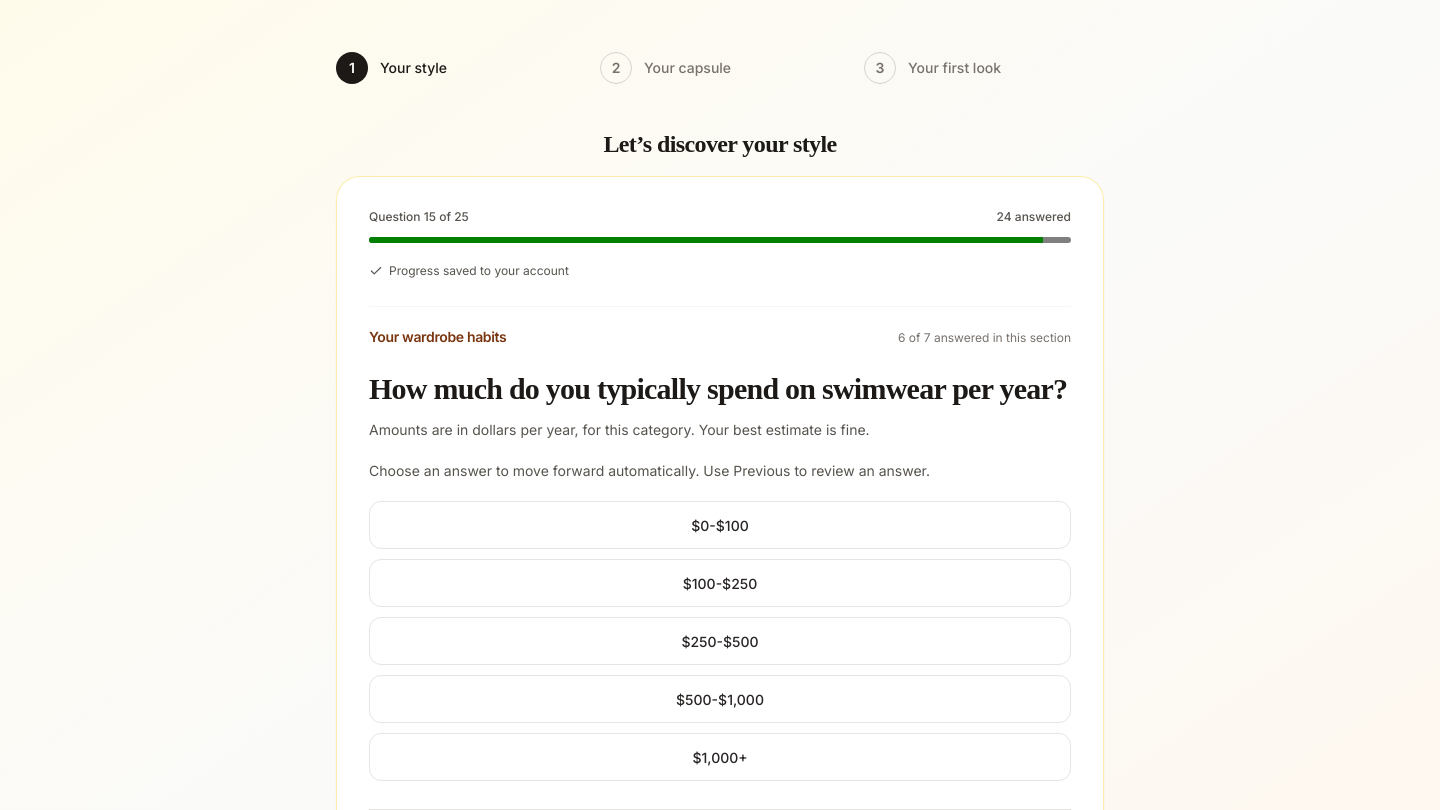
continues to completion when later guest questions are already answered
Expected: the heading "Your wardrobe habits" is shown, [369,327,506,347]
Expected: the text "Amounts are in dollars per year" is shown, [369,421,870,438]
Click the button "$0-$100". click: (720,525)
box: [369,501,1071,549]
Wait 400 ms
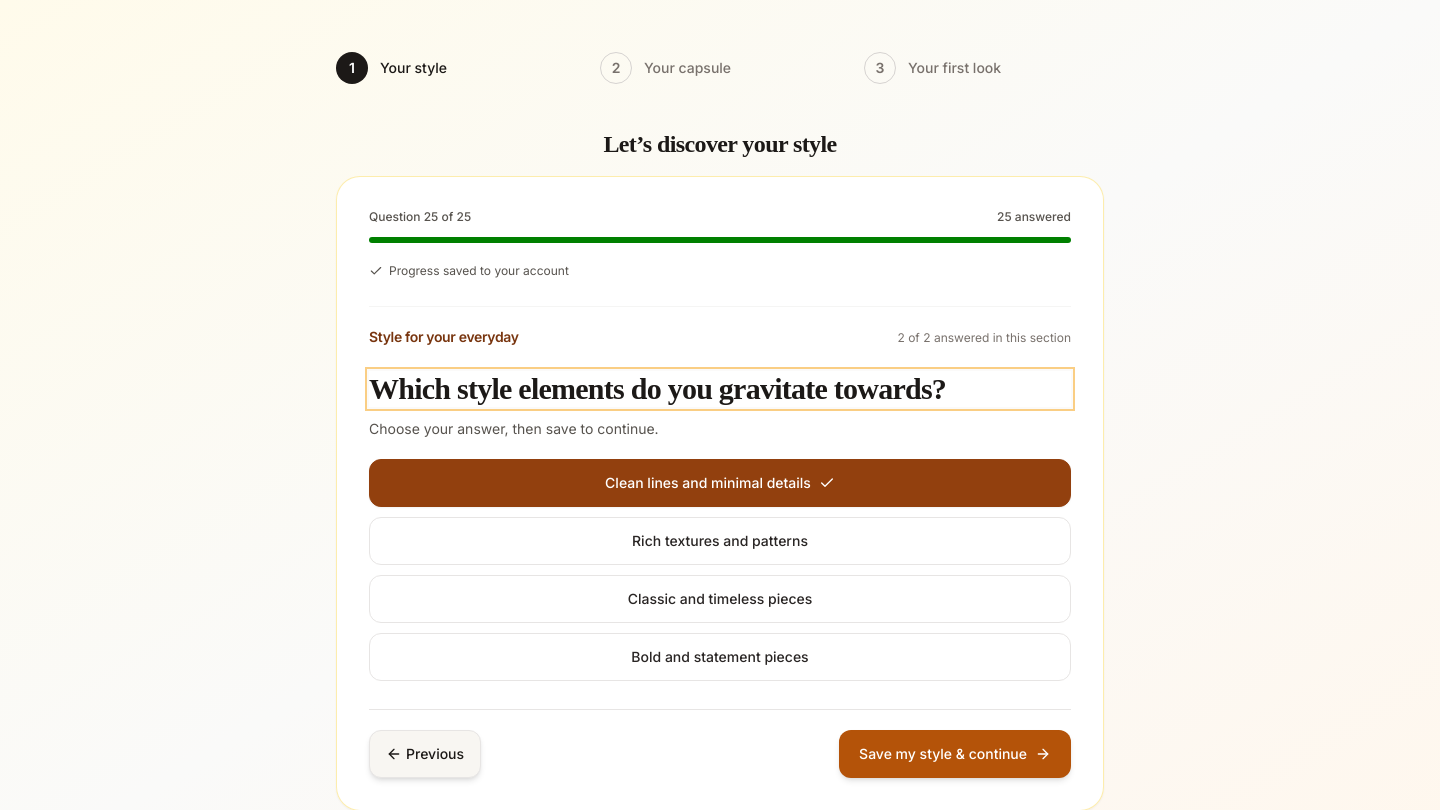
Expected: the text "Question 25 of 25" is shown, [369,209,471,225]
Expected: the button "Save my style & continue" is enabled, [839,730,1071,778]
Click the button "Previous". click: (425,754)
box: [369,730,481,778]
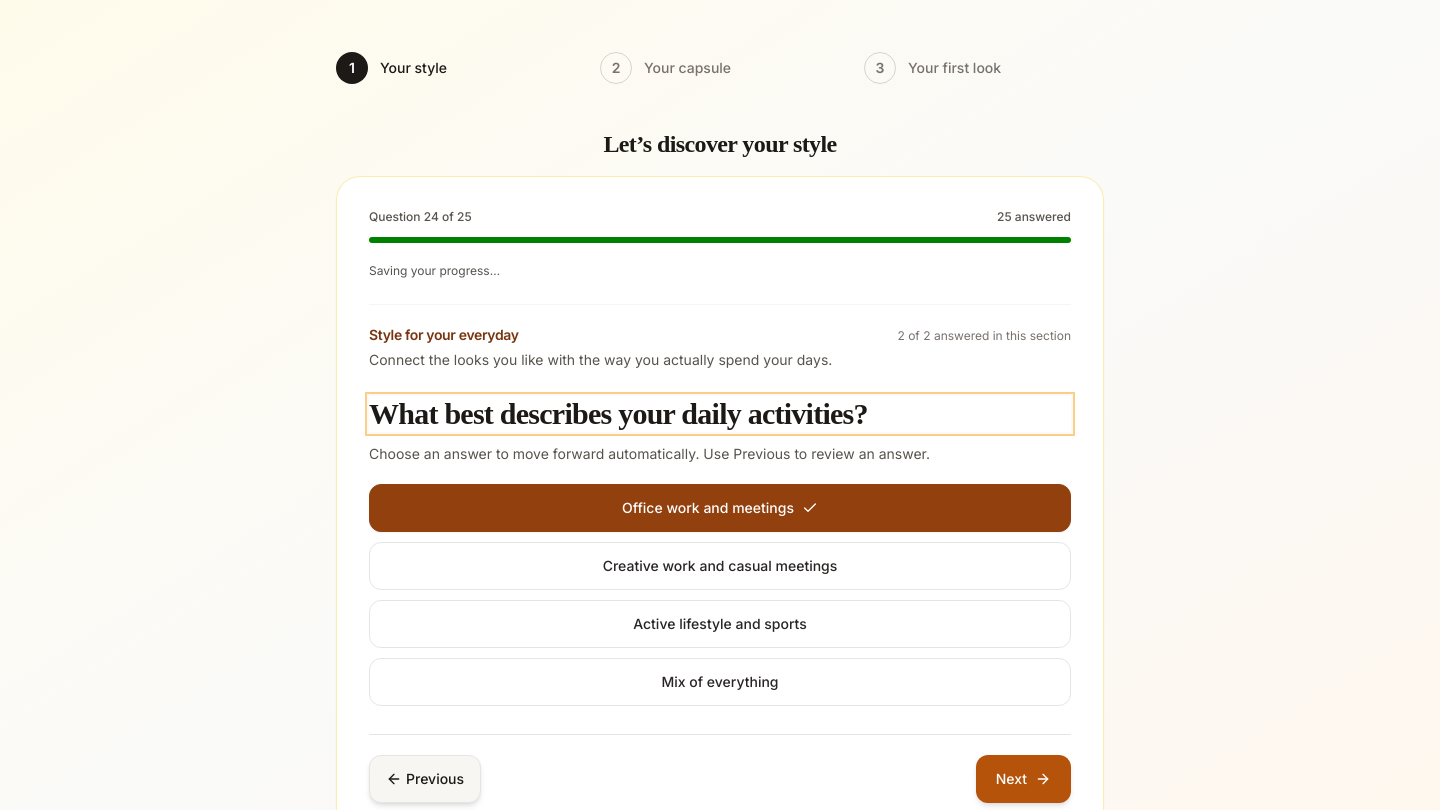
Expected: the text "Question 24 of 25" is shown, [369,209,472,225]
